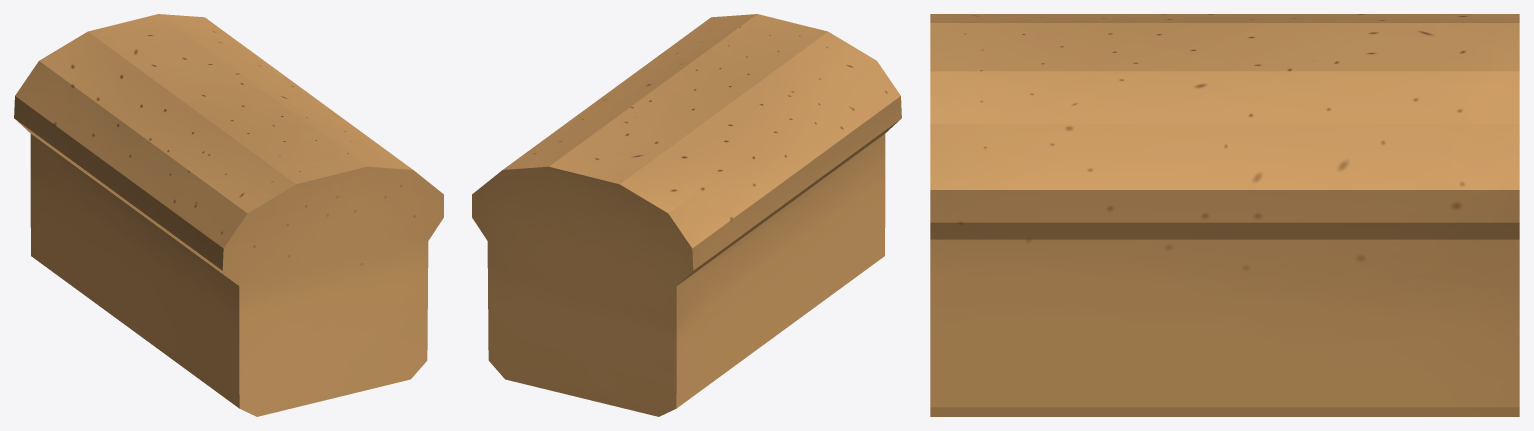
Rendered from TamEkmek.fbx.
3 renders of one model, left to right at view 1: azimuth 30°, elevation 25°; view 2: azimuth 150°, elevation 25°; view 3: azimuth 270°, elevation 25°, orthographic. The views are drawn at different scales.
Parts seen in each view (by area): view 1: Cube.046; view 2: Cube.046; view 3: Cube.046.
Boxes of the visible parts, x1,y1,x2,y2 form: Cube.046: (14,14,443,416); Cube.046: (472,14,901,416); Cube.046: (930,14,1519,416).
Size of the model in its own units: 65.06 by 62.77 by 106.
Materials: 1 (1 with a texture image).
